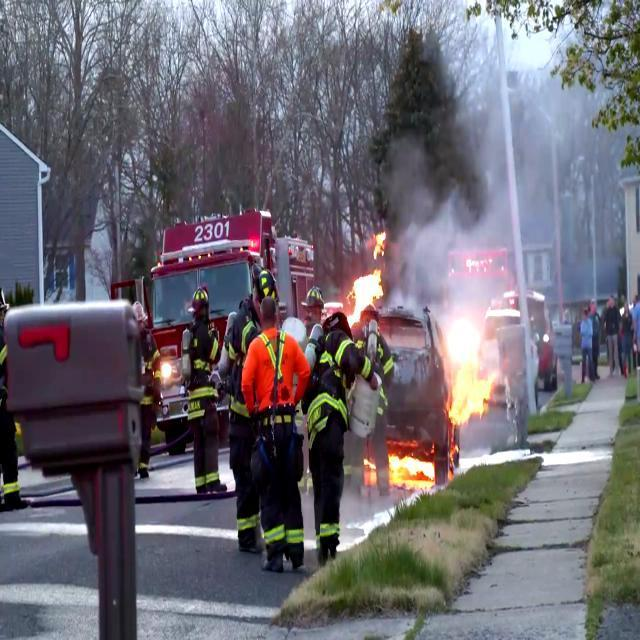Fire: (447, 344, 505, 426), (349, 235, 388, 328), (384, 446, 436, 494)
Smoke: (397, 46, 640, 377)
